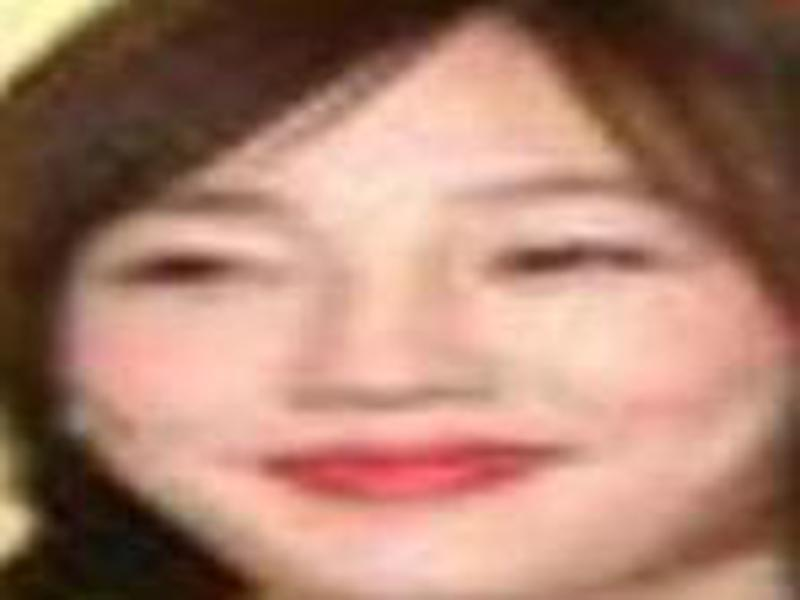without_mask: (59, 129, 770, 587)
